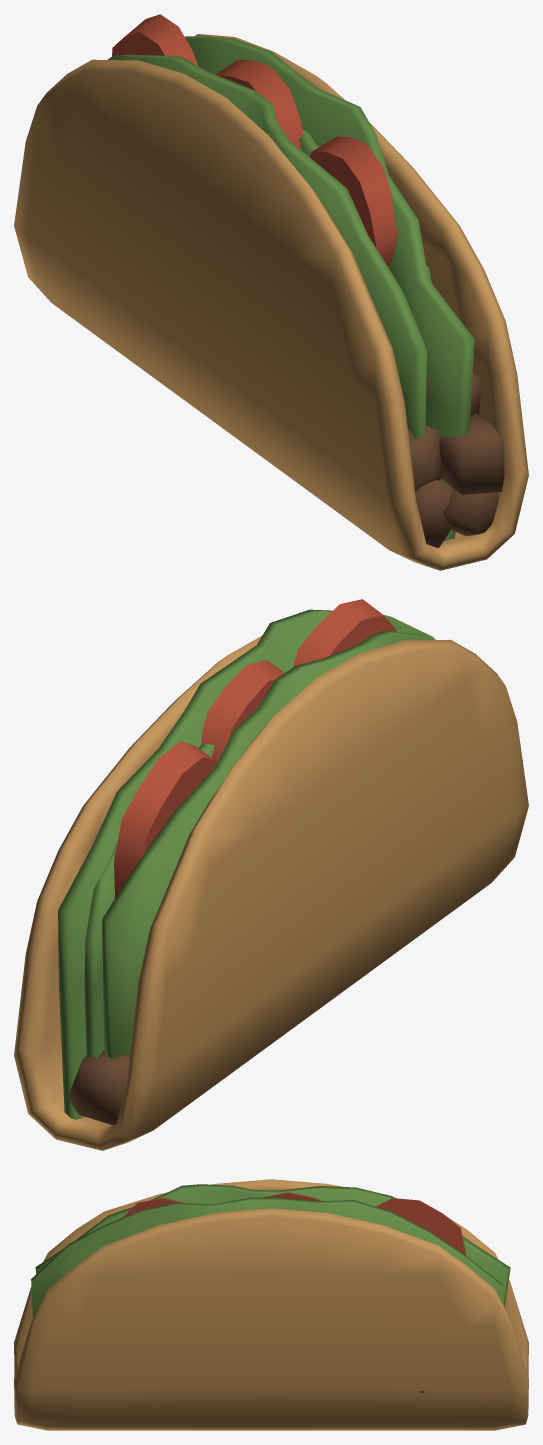
File: Taco_01.fbx
3 renders of one model, top to bottom at view 1: azimuth 30°, elevation 25°; view 2: azimuth 150°, elevation 25°; view 3: azimuth 270°, elevation 25°, orthographic. The views are drawn at different scales.
Parts seen in each view (by area): view 1: Taco_01; view 2: Taco_01; view 3: Taco_01.
Boxes of the visible parts, <box> form: Taco_01: <box>14,14,528,570</box>; Taco_01: <box>14,599,528,1150</box>; Taco_01: <box>14,1179,528,1430</box>.
Bounding box in the file's own units: 0.039 × 0.0991 × 0.1979.
